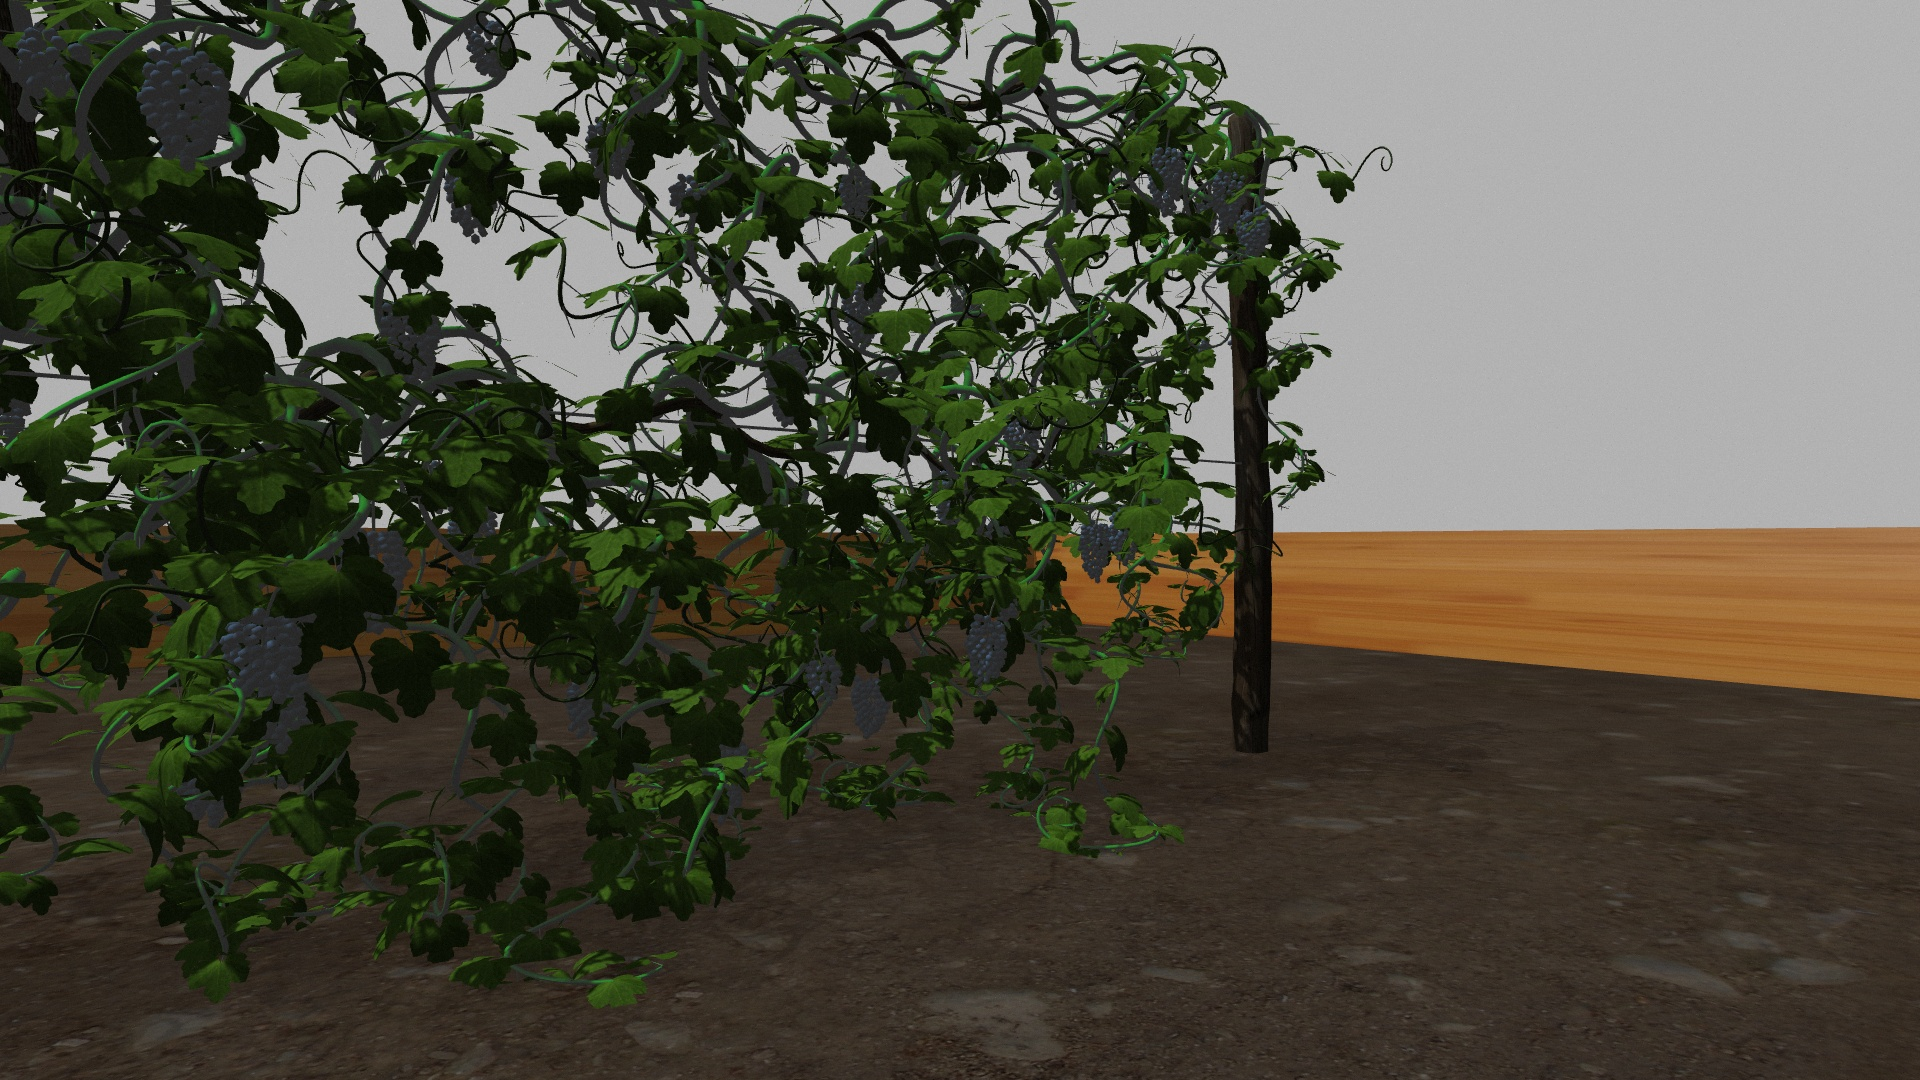grape: (137, 42, 231, 169), (218, 608, 305, 698), (378, 294, 446, 382), (356, 526, 411, 630), (15, 20, 86, 98), (262, 704, 316, 766), (849, 670, 894, 741), (965, 615, 1007, 688), (465, 22, 517, 82), (560, 678, 612, 735), (841, 282, 884, 349), (802, 650, 845, 713), (1147, 146, 1183, 214), (1211, 167, 1247, 231), (1076, 521, 1112, 585), (1004, 417, 1039, 471), (837, 167, 876, 218), (1237, 210, 1273, 261), (1112, 524, 1139, 564)
